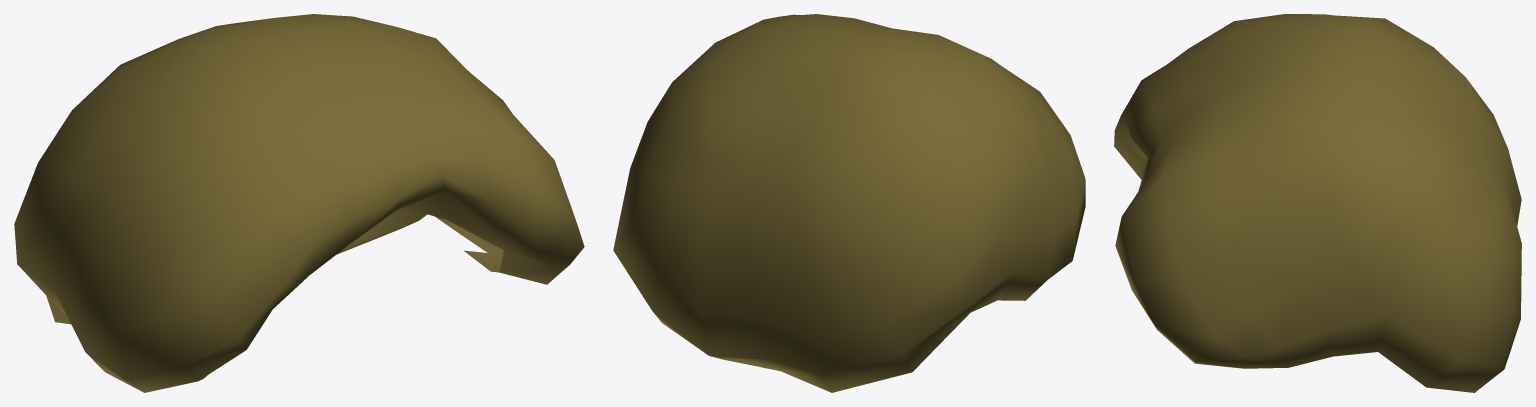
File: Charakter_Driver_hair.FBX
3 views of the same model, side by side, from view 1: azimuth 30°, elevation 25°; view 2: azimuth 150°, elevation 25°; view 3: azimuth 270°, elevation 25° (orthographic). The views are drawn at different scales.
Parts seen in each view (by area): view 1: Charakter_Man_hair; view 2: Charakter_Man_hair; view 3: Charakter_Man_hair.
Part boxes in pixels (<box>): Charakter_Man_hair: <box>14,14,584,392</box>; Charakter_Man_hair: <box>613,14,1085,392</box>; Charakter_Man_hair: <box>1114,14,1521,392</box>.
Bounding box in the file's own units: 145 × 125 × 108.
